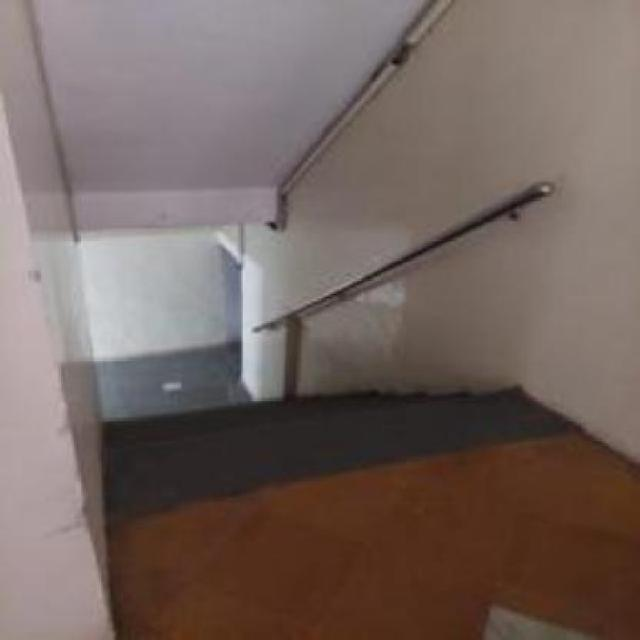stair: (85, 383, 521, 488)
